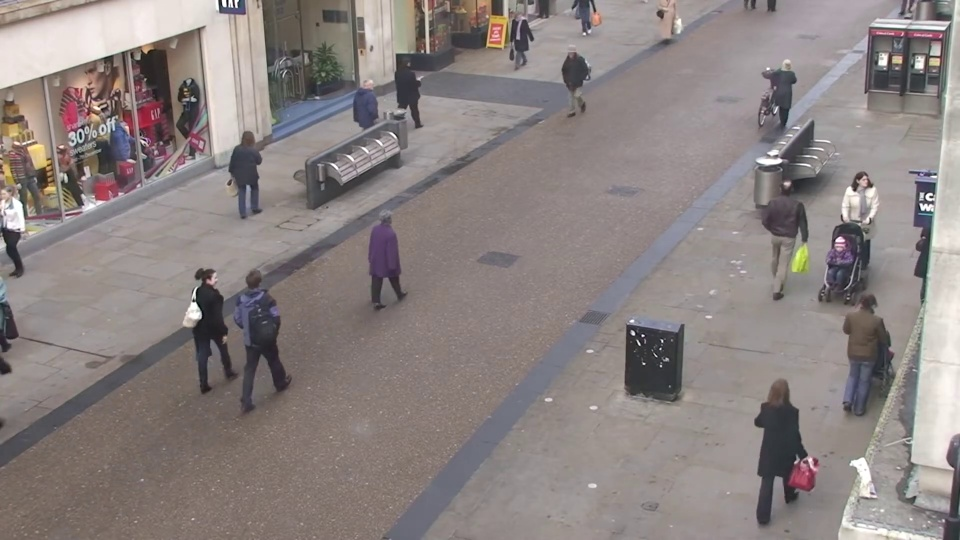pedestrian: (758, 360, 816, 521), (839, 280, 894, 420), (198, 258, 250, 389), (243, 256, 293, 387), (808, 232, 857, 359), (830, 171, 875, 283), (377, 200, 419, 319), (765, 172, 805, 283), (238, 127, 276, 224), (770, 54, 801, 135), (359, 74, 389, 157), (398, 50, 426, 126), (557, 45, 582, 121), (506, 8, 530, 74)
